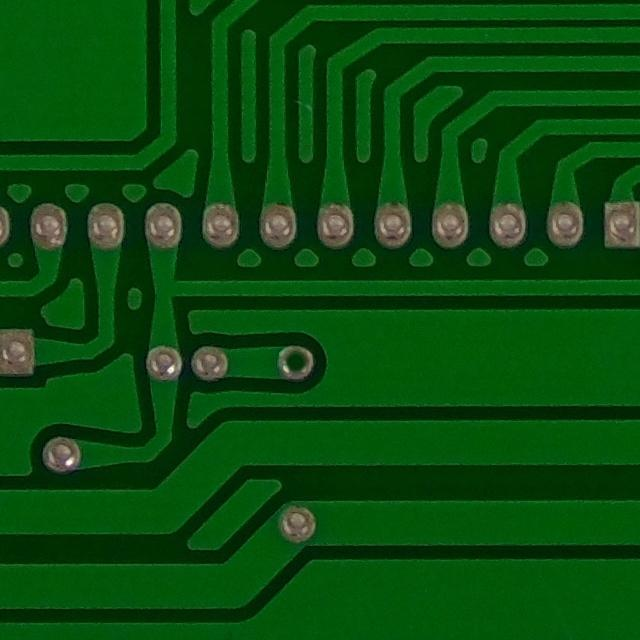missing_hole: (270, 336, 321, 387)
